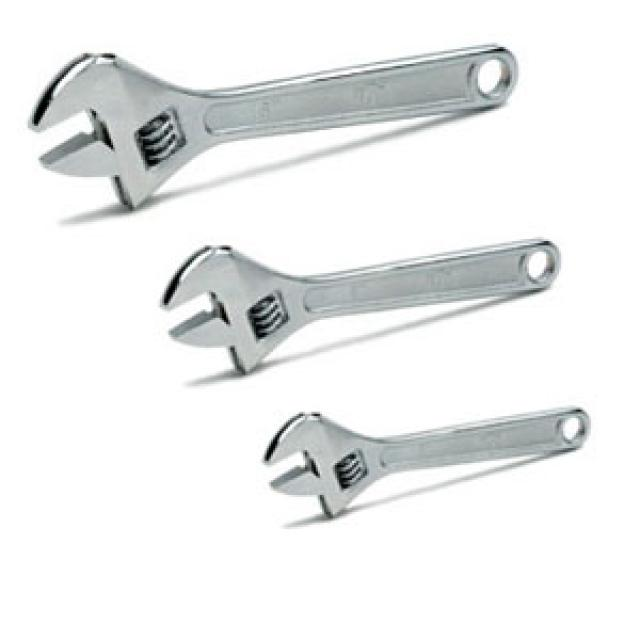wrench: (9, 37, 604, 220), (233, 369, 640, 549), (135, 222, 602, 374)
